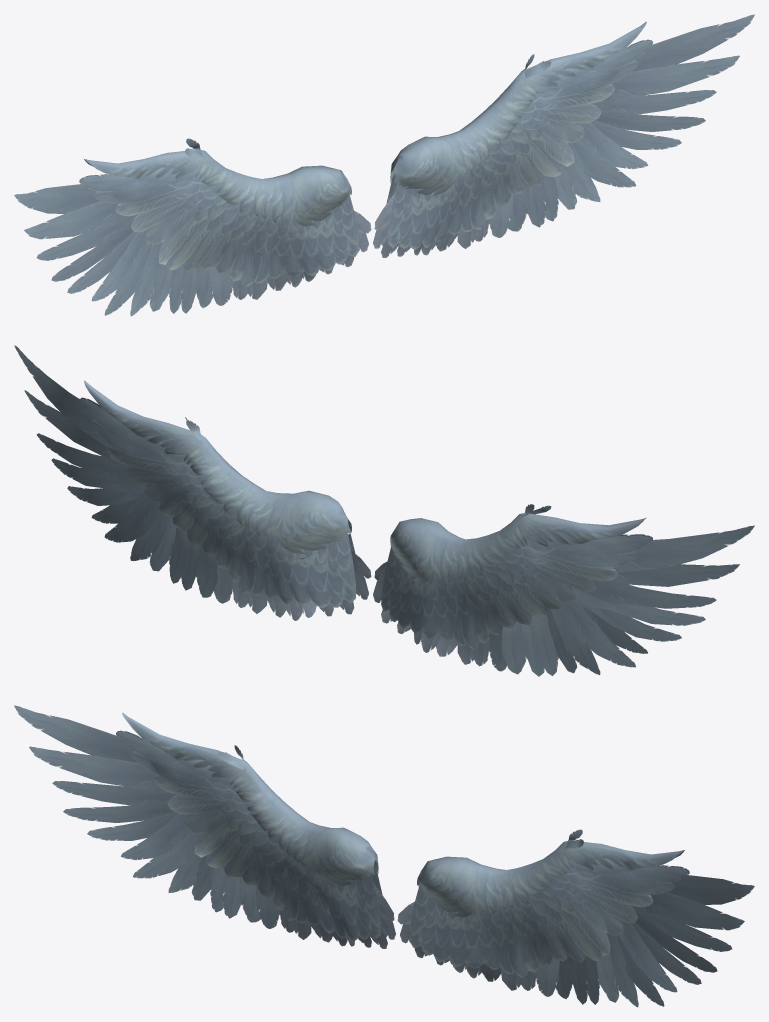
File: angel_wings-transformed.glb
3 renders of one model, top to bottom at view 1: azimuth 30°, elevation 25°; view 2: azimuth 150°, elevation 25°; view 3: azimuth 330°, elevation 25°, orthographic.
Visible parts, largest first — view 1: Object_4; view 2: Object_4; view 3: Object_4.
Boxes of the visible parts, x1,y1,x2,y2 form: Object_4: (14,14,754,316); Object_4: (14,345,754,676); Object_4: (14,705,754,1007).
Bounding box in the file's own units: 4.01 × 0.9684 × 0.3025.
Materials: 1 (1 with a texture image).
